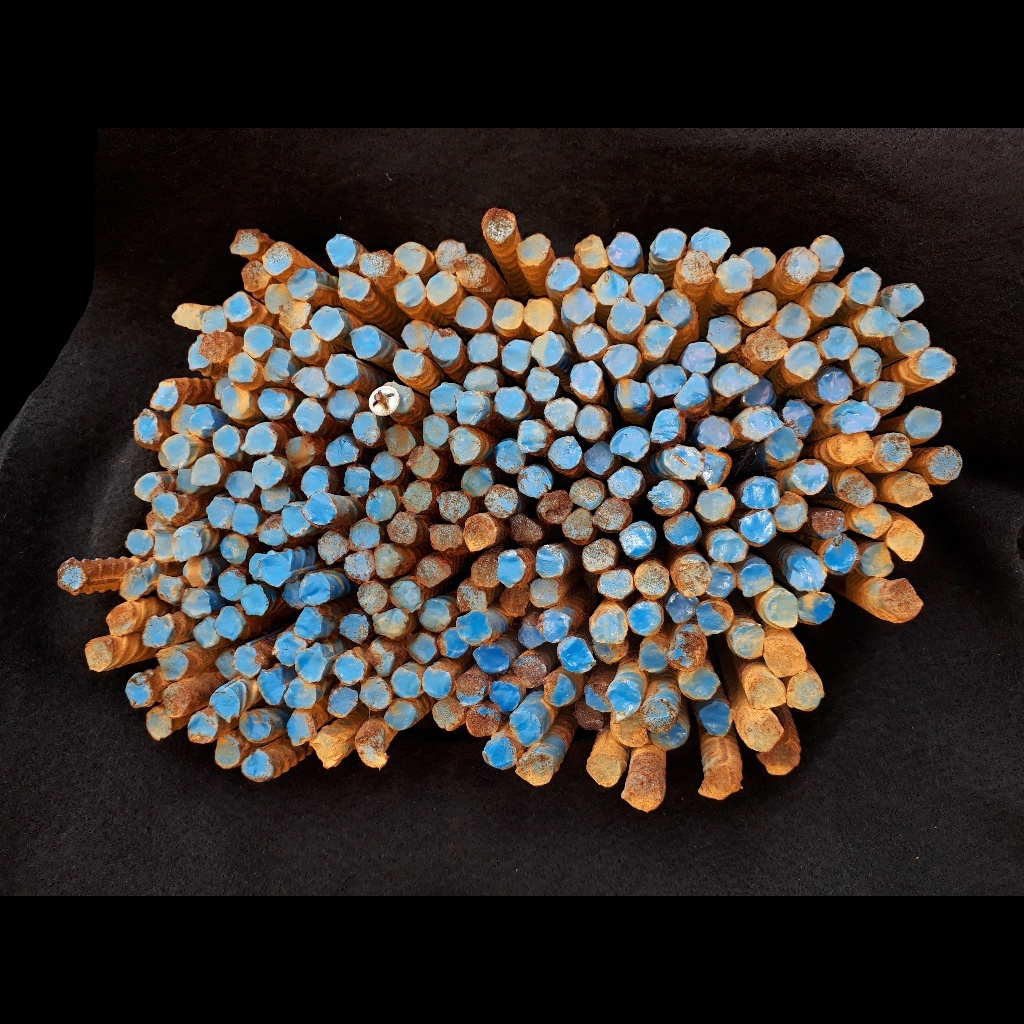dipstick: (884, 579, 924, 622), (368, 381, 415, 416), (742, 712, 781, 752), (625, 776, 667, 811), (785, 341, 822, 380), (766, 639, 807, 674), (589, 606, 627, 643), (839, 468, 876, 506), (714, 364, 759, 395), (668, 633, 705, 670), (675, 559, 711, 597), (847, 268, 882, 306), (790, 556, 828, 591), (746, 329, 786, 362), (892, 473, 932, 506), (888, 525, 924, 561), (619, 522, 656, 557), (760, 743, 800, 775), (634, 563, 670, 598), (766, 429, 801, 465), (702, 769, 744, 799), (463, 514, 497, 551), (558, 638, 595, 672), (787, 675, 824, 709), (628, 601, 663, 636), (641, 323, 676, 358), (271, 632, 305, 668), (611, 426, 648, 459), (742, 476, 779, 509), (797, 591, 834, 624), (356, 730, 388, 768), (743, 408, 781, 440), (719, 259, 753, 294), (786, 247, 820, 282), (742, 509, 776, 544), (607, 682, 640, 718), (879, 433, 912, 469), (793, 460, 829, 493), (257, 551, 289, 588), (640, 699, 677, 731), (739, 290, 776, 322), (835, 432, 872, 464), (698, 489, 735, 521), (516, 753, 554, 784), (664, 448, 702, 479), (709, 532, 747, 563), (610, 298, 644, 332), (891, 284, 925, 318), (895, 320, 929, 354), (562, 288, 595, 323), (605, 344, 640, 377), (576, 404, 609, 439), (823, 326, 858, 359), (699, 701, 731, 737), (610, 717, 648, 747), (692, 228, 730, 258), (839, 404, 878, 433), (777, 492, 806, 531), (608, 233, 641, 267), (596, 271, 629, 305), (649, 481, 684, 513), (856, 505, 891, 537), (732, 624, 764, 659), (449, 428, 480, 464), (570, 361, 601, 397), (851, 349, 882, 385), (697, 602, 733, 633), (683, 671, 720, 701), (861, 309, 900, 337), (311, 735, 344, 768), (587, 755, 620, 788), (531, 332, 564, 365), (811, 284, 844, 317), (510, 712, 542, 746), (777, 303, 809, 337), (458, 613, 493, 644), (930, 446, 961, 481), (664, 513, 699, 544), (826, 538, 857, 573), (905, 408, 941, 438), (749, 678, 785, 708), (649, 365, 686, 394), (482, 209, 515, 241), (517, 233, 549, 266), (455, 391, 487, 424), (456, 581, 489, 613), (584, 539, 616, 572), (527, 368, 559, 401), (655, 228, 687, 261), (862, 543, 894, 576), (765, 594, 797, 627), (608, 467, 642, 498), (918, 349, 954, 378), (704, 451, 731, 489), (253, 457, 285, 489), (326, 686, 358, 718), (514, 655, 546, 687), (709, 318, 741, 350), (325, 354, 358, 385), (222, 387, 253, 420), (295, 649, 326, 682), (538, 490, 571, 521), (699, 416, 732, 447), (351, 325, 381, 359), (365, 489, 395, 523), (676, 374, 706, 408), (293, 368, 328, 397), (303, 495, 338, 524), (595, 500, 630, 529), (818, 372, 853, 401), (426, 272, 457, 304), (401, 319, 432, 351), (389, 580, 420, 612), (548, 259, 579, 291), (549, 437, 581, 468), (683, 341, 715, 372), (294, 399, 324, 432), (502, 341, 532, 374), (57, 561, 87, 594), (84, 639, 114, 672), (546, 398, 576, 431), (616, 379, 649, 409), (659, 290, 689, 323), (524, 298, 553, 332), (215, 607, 244, 641), (238, 711, 272, 740), (241, 427, 276, 455), (598, 570, 633, 598), (498, 550, 525, 586), (869, 382, 905, 409), (242, 750, 273, 781), (455, 255, 485, 287), (395, 274, 425, 306), (106, 604, 136, 636), (422, 668, 452, 700), (486, 485, 516, 517), (633, 273, 663, 305), (682, 253, 712, 285), (263, 242, 292, 275), (232, 646, 261, 679), (318, 530, 347, 563), (417, 558, 450, 587), (466, 707, 499, 736), (516, 467, 549, 496), (584, 442, 613, 475), (812, 509, 845, 538), (508, 515, 542, 543), (571, 479, 605, 507), (519, 419, 547, 453), (257, 670, 284, 705), (428, 523, 463, 550), (784, 400, 811, 435), (710, 564, 737, 599), (395, 242, 425, 273), (455, 298, 486, 328), (358, 582, 388, 613), (409, 446, 439, 477), (157, 650, 189, 679), (573, 326, 605, 355), (125, 674, 153, 707), (373, 610, 407, 637), (536, 544, 563, 578), (652, 410, 679, 444), (367, 642, 393, 677), (817, 236, 843, 271), (258, 388, 288, 418), (300, 575, 330, 605), (344, 551, 374, 581), (434, 700, 464, 730), (326, 235, 355, 266), (314, 309, 343, 340), (327, 389, 358, 418), (160, 437, 189, 468), (334, 655, 365, 684), (388, 513, 417, 544), (420, 601, 449, 632), (402, 482, 431, 513), (545, 674, 574, 705), (538, 612, 567, 643), (741, 565, 772, 594), (119, 570, 147, 602), (143, 615, 171, 647), (284, 680, 316, 708), (348, 522, 380, 550), (361, 678, 389, 710), (371, 454, 403, 482), (484, 740, 516, 768), (243, 584, 270, 617), (585, 680, 612, 713), (473, 646, 508, 671), (435, 239, 464, 269), (496, 388, 526, 417), (182, 589, 212, 618), (210, 690, 239, 720), (438, 628, 468, 657), (385, 426, 415, 455), (489, 681, 519, 710), (564, 509, 593, 539), (638, 643, 668, 672), (287, 712, 315, 743), (667, 594, 698, 622), (431, 383, 458, 415), (578, 236, 605, 268), (188, 714, 217, 743), (340, 614, 369, 643), (280, 301, 310, 329), (432, 329, 460, 359), (467, 334, 497, 362), (172, 530, 200, 560), (385, 702, 415, 730), (500, 587, 528, 617), (337, 272, 368, 299), (394, 351, 425, 378), (438, 492, 469, 519), (296, 608, 322, 640), (134, 410, 159, 443), (223, 292, 251, 321), (243, 327, 271, 356), (191, 457, 219, 486), (184, 558, 212, 587), (392, 669, 420, 698), (747, 248, 776, 276), (258, 515, 285, 545), (461, 468, 491, 495), (472, 557, 499, 587), (456, 675, 483, 705), (529, 579, 559, 606), (164, 686, 190, 717), (496, 441, 522, 472), (359, 251, 391, 276), (264, 349, 289, 381), (213, 425, 238, 457), (219, 569, 244, 601), (208, 497, 232, 530), (325, 439, 358, 463), (375, 546, 399, 579), (743, 381, 776, 405), (221, 535, 249, 563), (201, 333, 230, 360), (494, 301, 523, 328), (286, 438, 313, 467), (282, 506, 309, 535), (463, 367, 497, 390), (520, 613, 543, 647), (409, 634, 435, 664), (353, 411, 378, 442), (344, 466, 369, 497), (215, 737, 240, 768), (291, 330, 319, 357), (147, 709, 172, 739), (423, 417, 448, 447), (190, 405, 214, 436), (260, 488, 291, 512), (652, 729, 687, 750), (229, 354, 256, 381), (134, 473, 161, 500), (242, 261, 268, 289), (265, 284, 291, 312), (289, 270, 315, 298), (151, 381, 177, 409), (301, 468, 329, 494), (574, 705, 603, 730), (173, 304, 200, 330), (230, 229, 258, 254), (194, 619, 219, 647), (234, 504, 256, 535), (226, 472, 253, 497), (126, 531, 152, 556), (151, 494, 179, 517), (595, 643, 627, 663), (157, 576, 182, 601), (217, 650, 237, 680), (201, 308, 226, 331), (171, 405, 191, 433), (187, 337, 205, 367), (154, 530, 172, 560), (284, 583, 301, 608), (145, 511, 169, 528), (177, 468, 192, 492), (215, 377, 229, 398)
